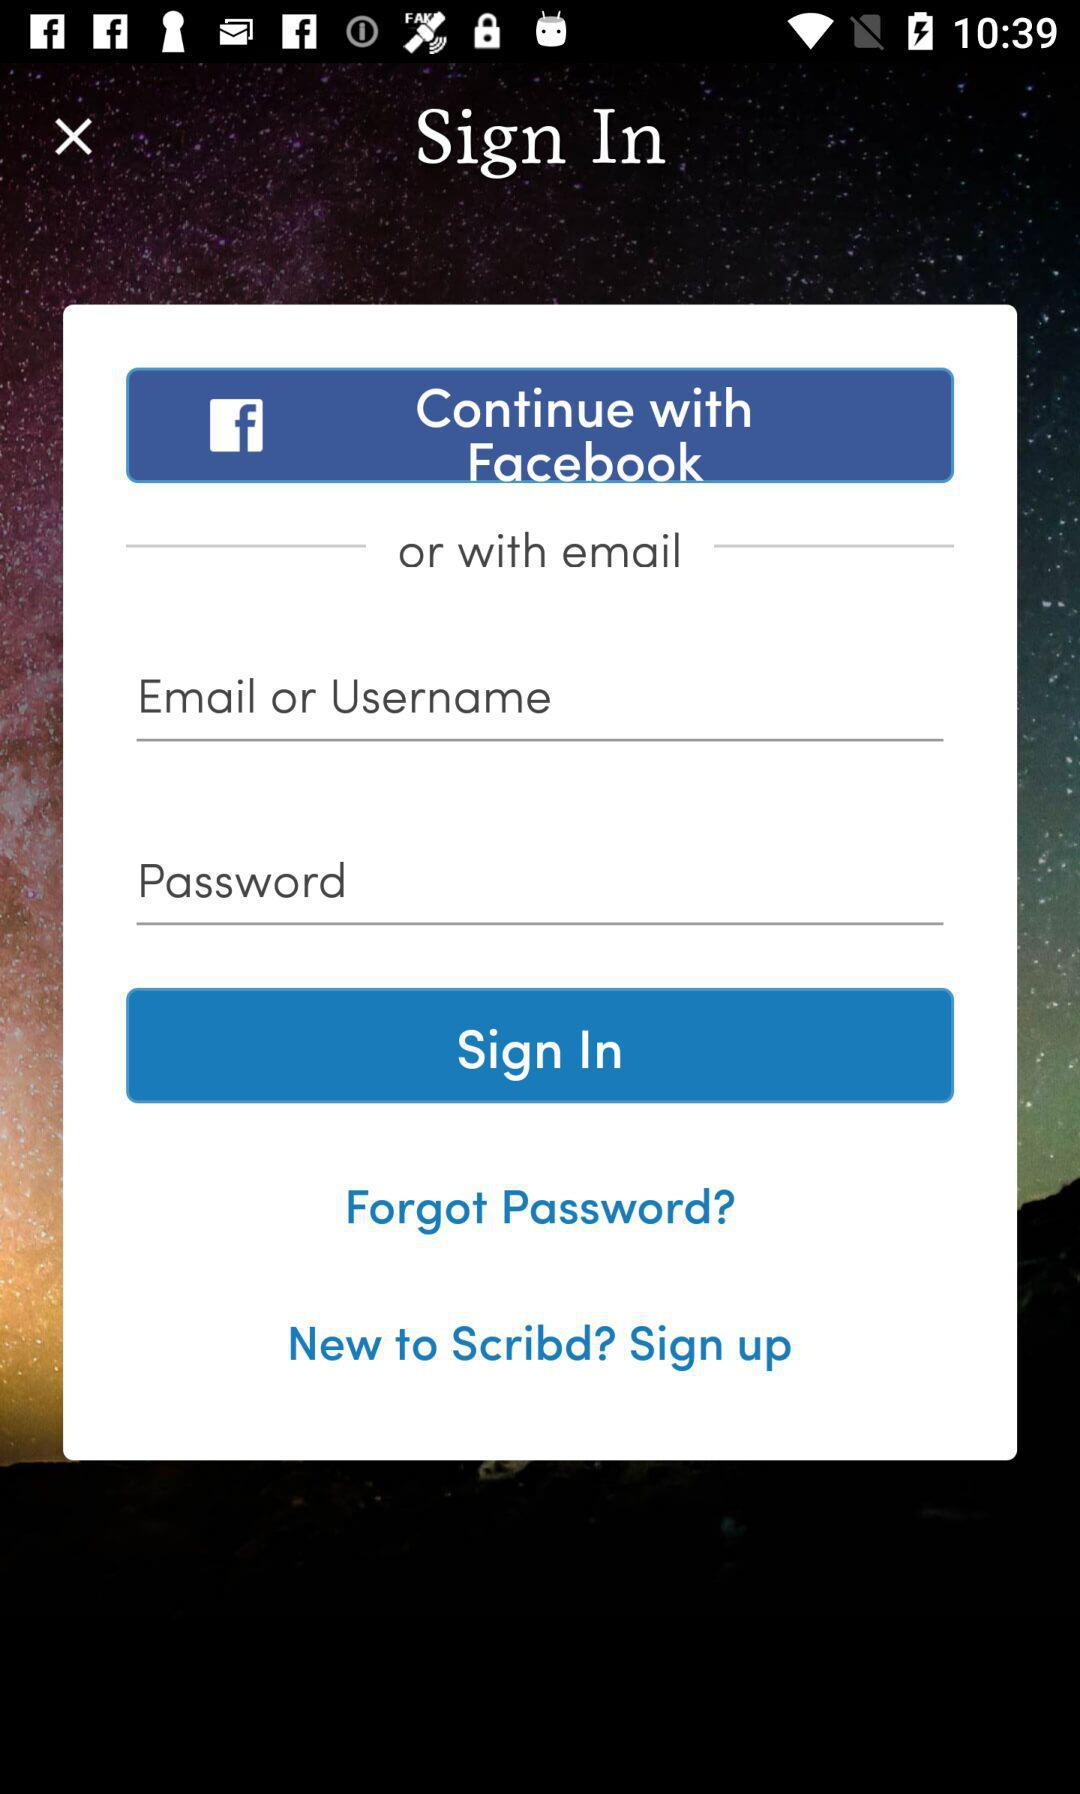Card: (63, 304, 1019, 1461)
EditText: (136, 678, 945, 743), (137, 861, 945, 926)
Icon: (55, 118, 94, 158)
Text: (290, 1322, 792, 1372), (348, 1187, 735, 1237), (418, 109, 667, 181), (142, 678, 552, 714), (400, 531, 680, 569), (141, 861, 346, 900)
TextButton: (126, 988, 954, 1105), (126, 368, 954, 484)
UpperTaskBar: (1, 1, 1080, 64)
